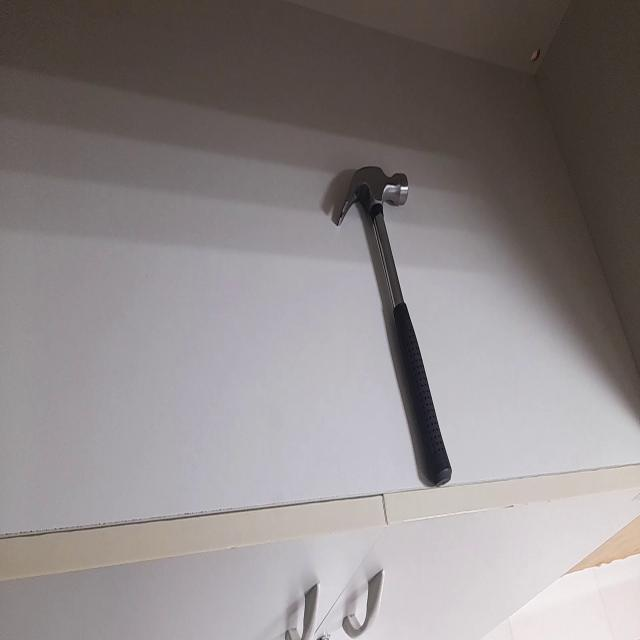hammer: (336, 167, 452, 486)
